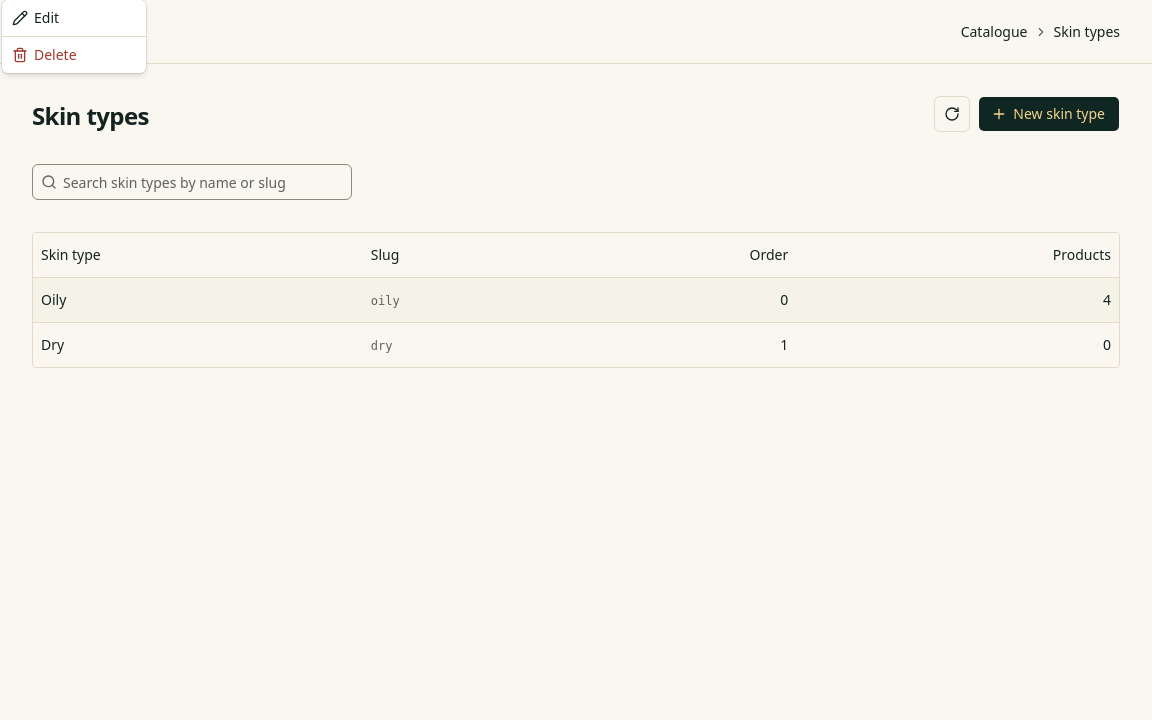
Test: skin types › says how many products lose a skin type before deleting it
Step 1. Click the menu item "Delete" → (44, 54), box [12,45,77,64]
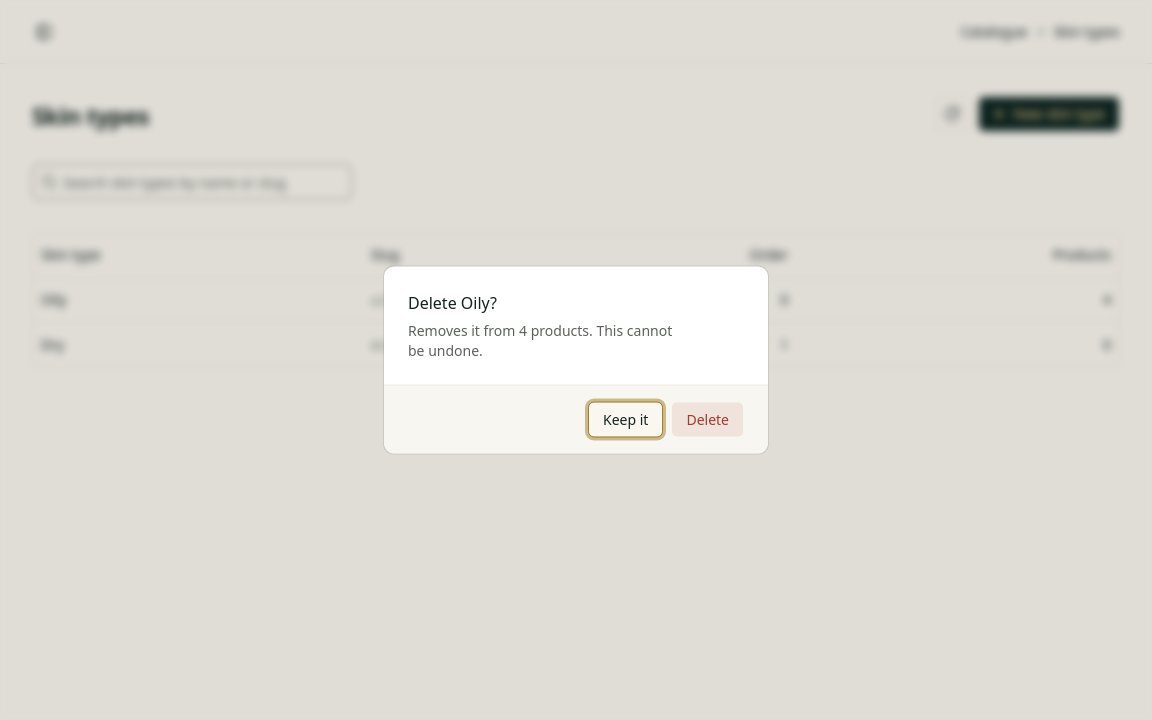
Expected: the dialog shows "Removes it from 4 products. This cannot be undone.", [408,320,672,360]
